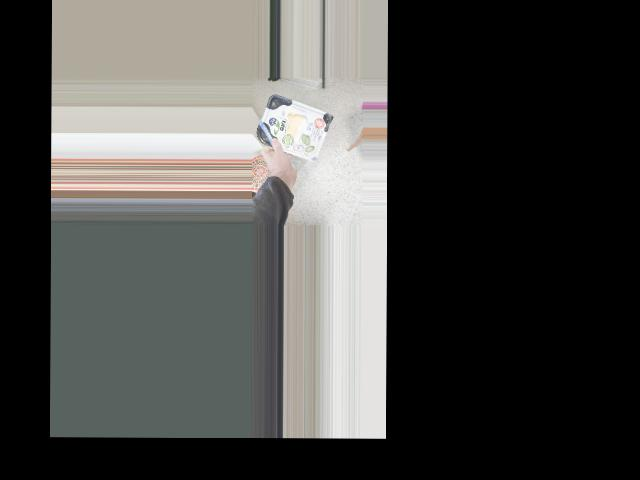cheese: (264, 102, 325, 154)
